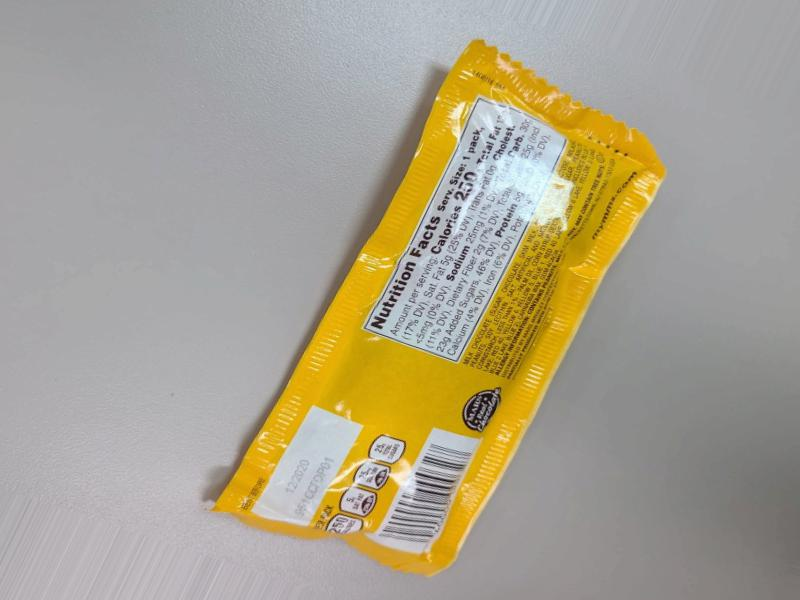m&m: (267, 6, 706, 600)
